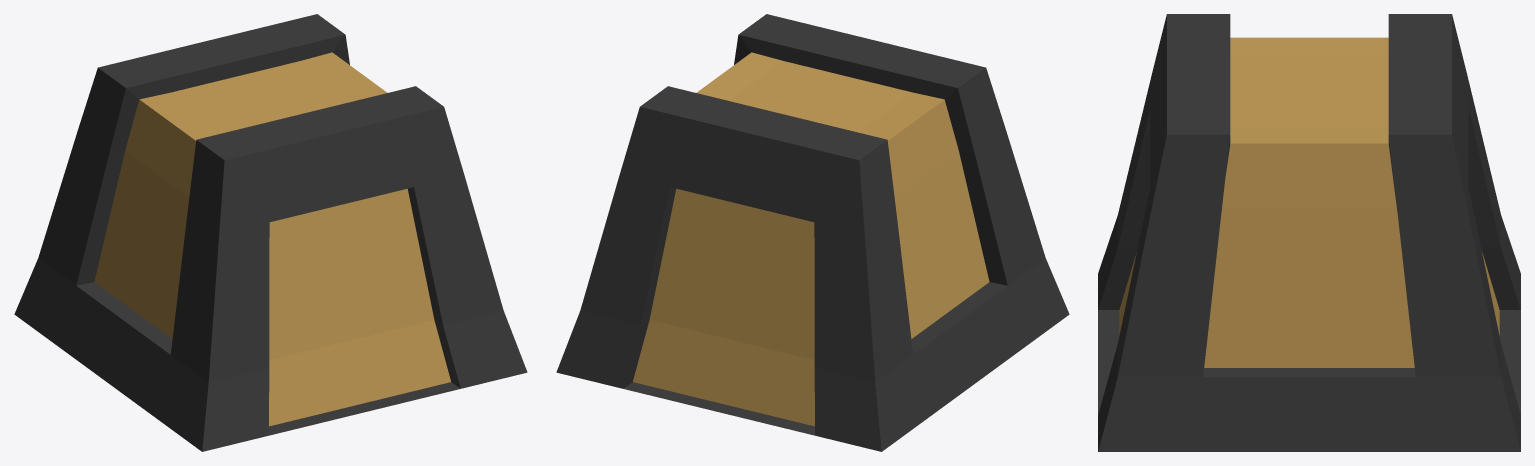
The model's file is GoldStorage.fbx.
The picture shows the model from 3 angles, left to right: view 1: azimuth 30°, elevation 25°; view 2: azimuth 150°, elevation 25°; view 3: azimuth 270°, elevation 25°; orthographic projection. The views are drawn at different scales.
Parts seen in each view (by area): view 1: GoldStorage; view 2: GoldStorage; view 3: GoldStorage.
Boxes of the visible parts, <box> form: GoldStorage: <box>14,14,527,451</box>; GoldStorage: <box>556,14,1069,451</box>; GoldStorage: <box>1098,14,1520,451</box>.
Bounding box in the file's own units: 1.33 × 1 × 1.33.
